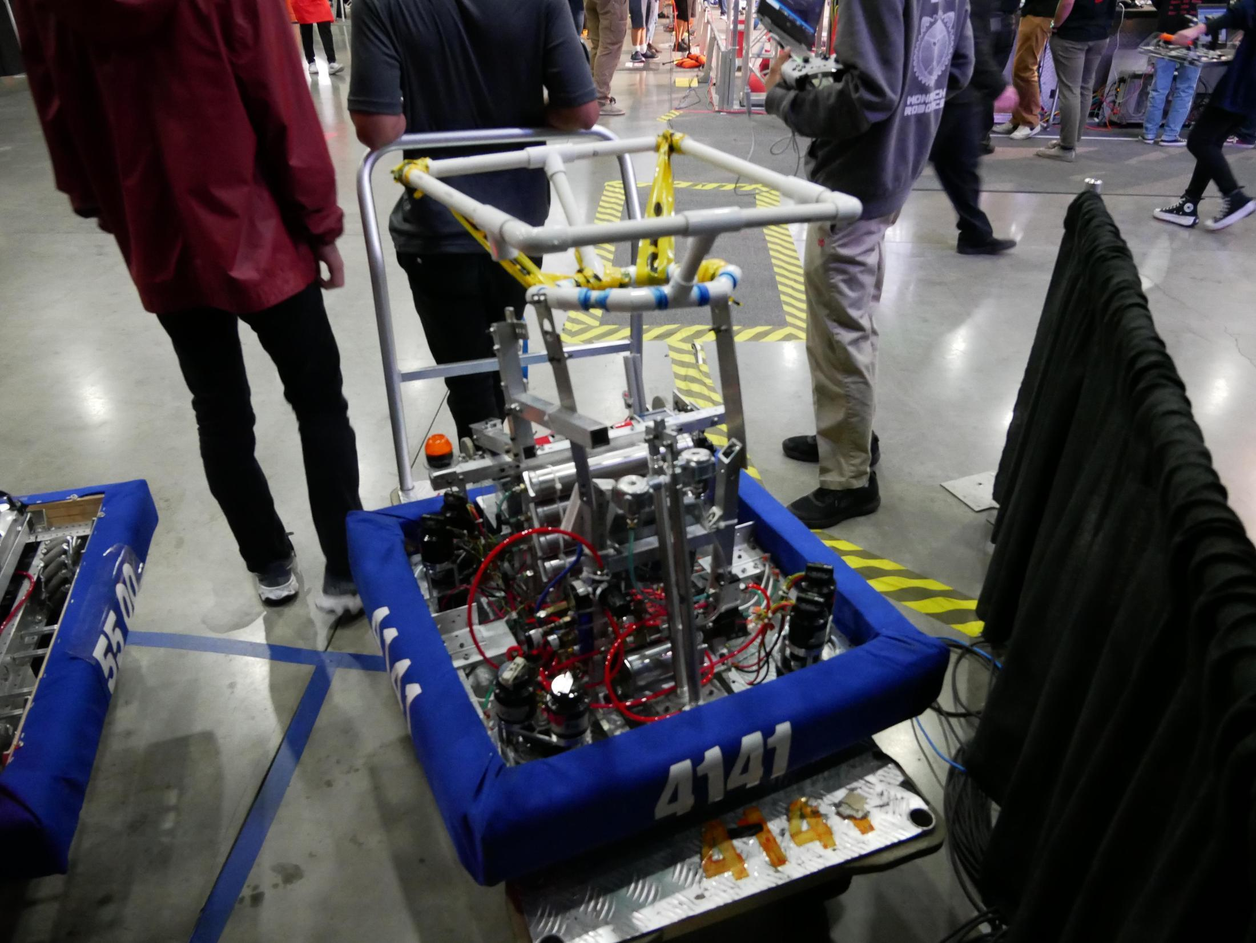robot: (335, 126, 948, 888), (0, 472, 160, 878)
